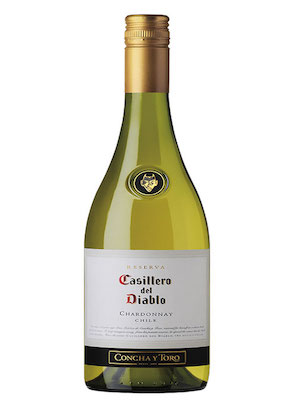casillero del diablo chardonnay: (83, 12, 209, 395)
